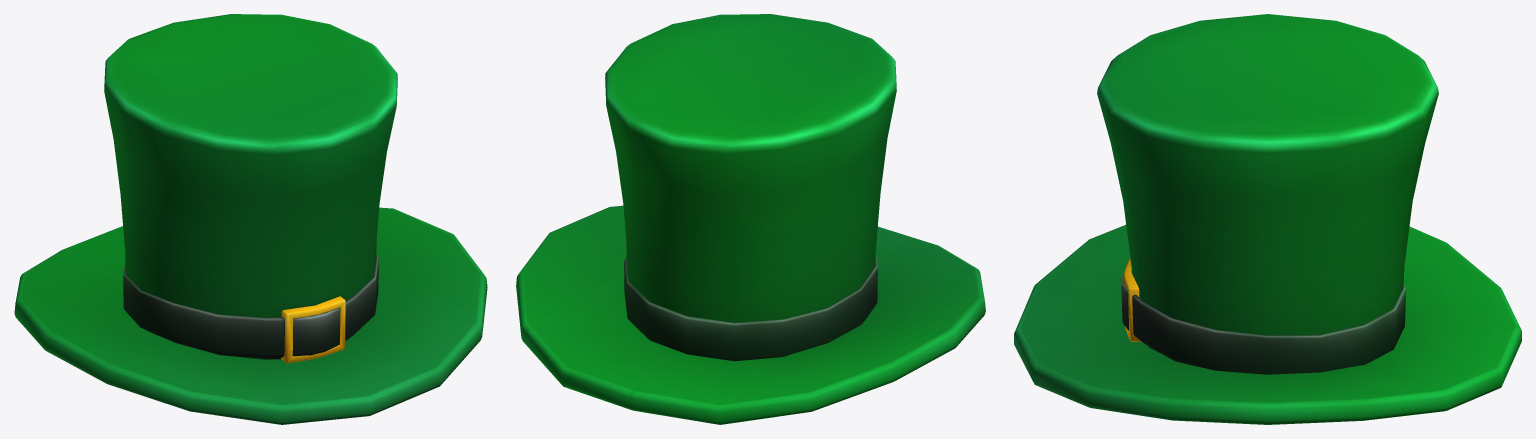
Rendered from Green_Hat.glb.
The picture shows the model from 3 angles, left to right: view 1: azimuth 30°, elevation 25°; view 2: azimuth 150°, elevation 25°; view 3: azimuth 270°, elevation 25°; orthographic projection. The views are drawn at different scales.
Visible parts, largest first — view 1: Green_Hat; view 2: Green_Hat; view 3: Green_Hat.
Part boxes in pixels (bbox=[...]): Green_Hat: bbox=[14, 14, 487, 424]; Green_Hat: bbox=[516, 14, 985, 424]; Green_Hat: bbox=[1014, 14, 1521, 424].
Size of the model in its own units: 0.7739 by 0.4628 by 0.7768.
1 material, 1 textured.
